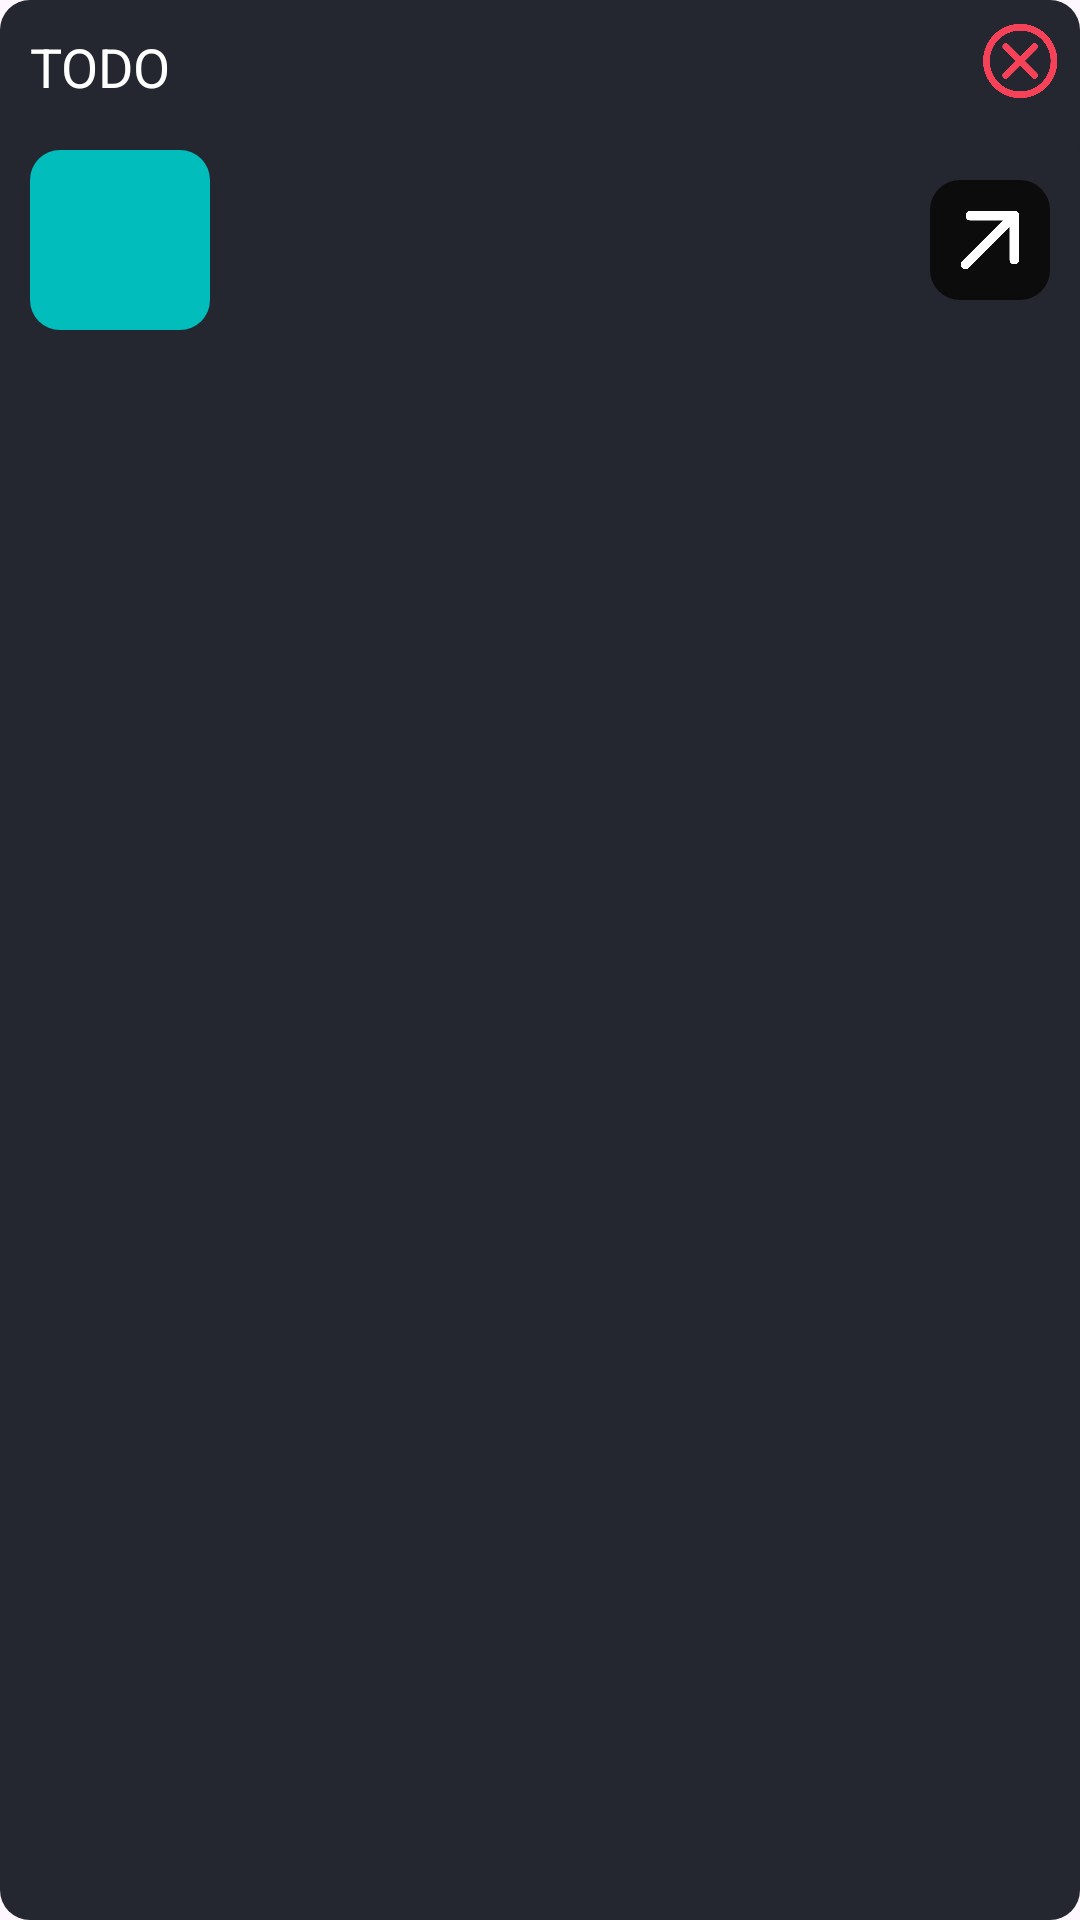

Where icons sit on this 1080px×1920px app screen, as (x1, y1, x2, y2):
arrow: (930, 180, 1050, 300)
delete: (983, 24, 1057, 98)
